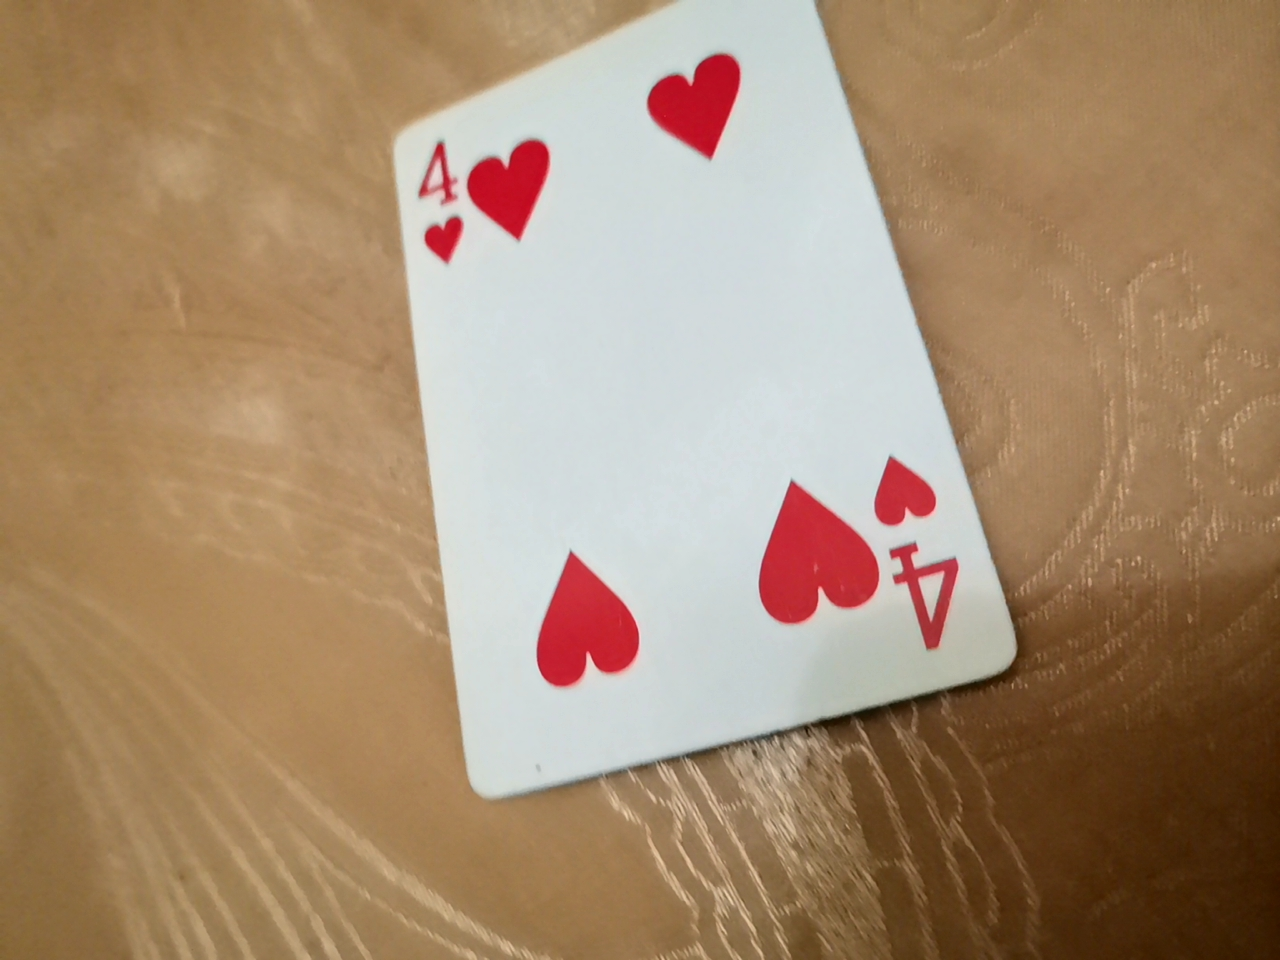hx 4: (342, 11, 1009, 802)
